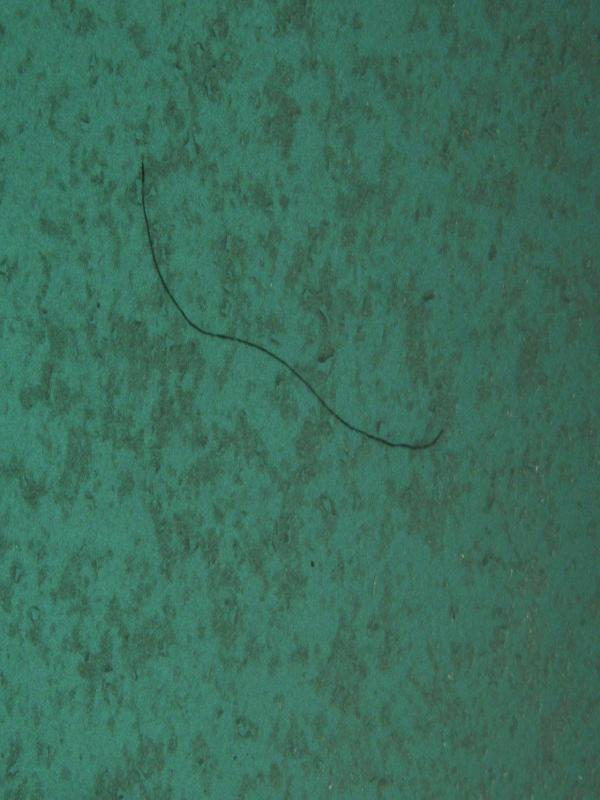microplastic: (139, 154, 447, 453)
